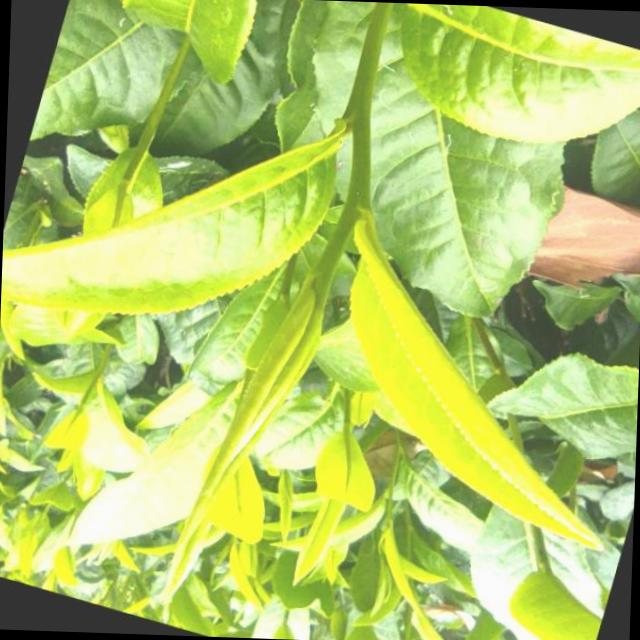Stem: (347, 191, 369, 211)
